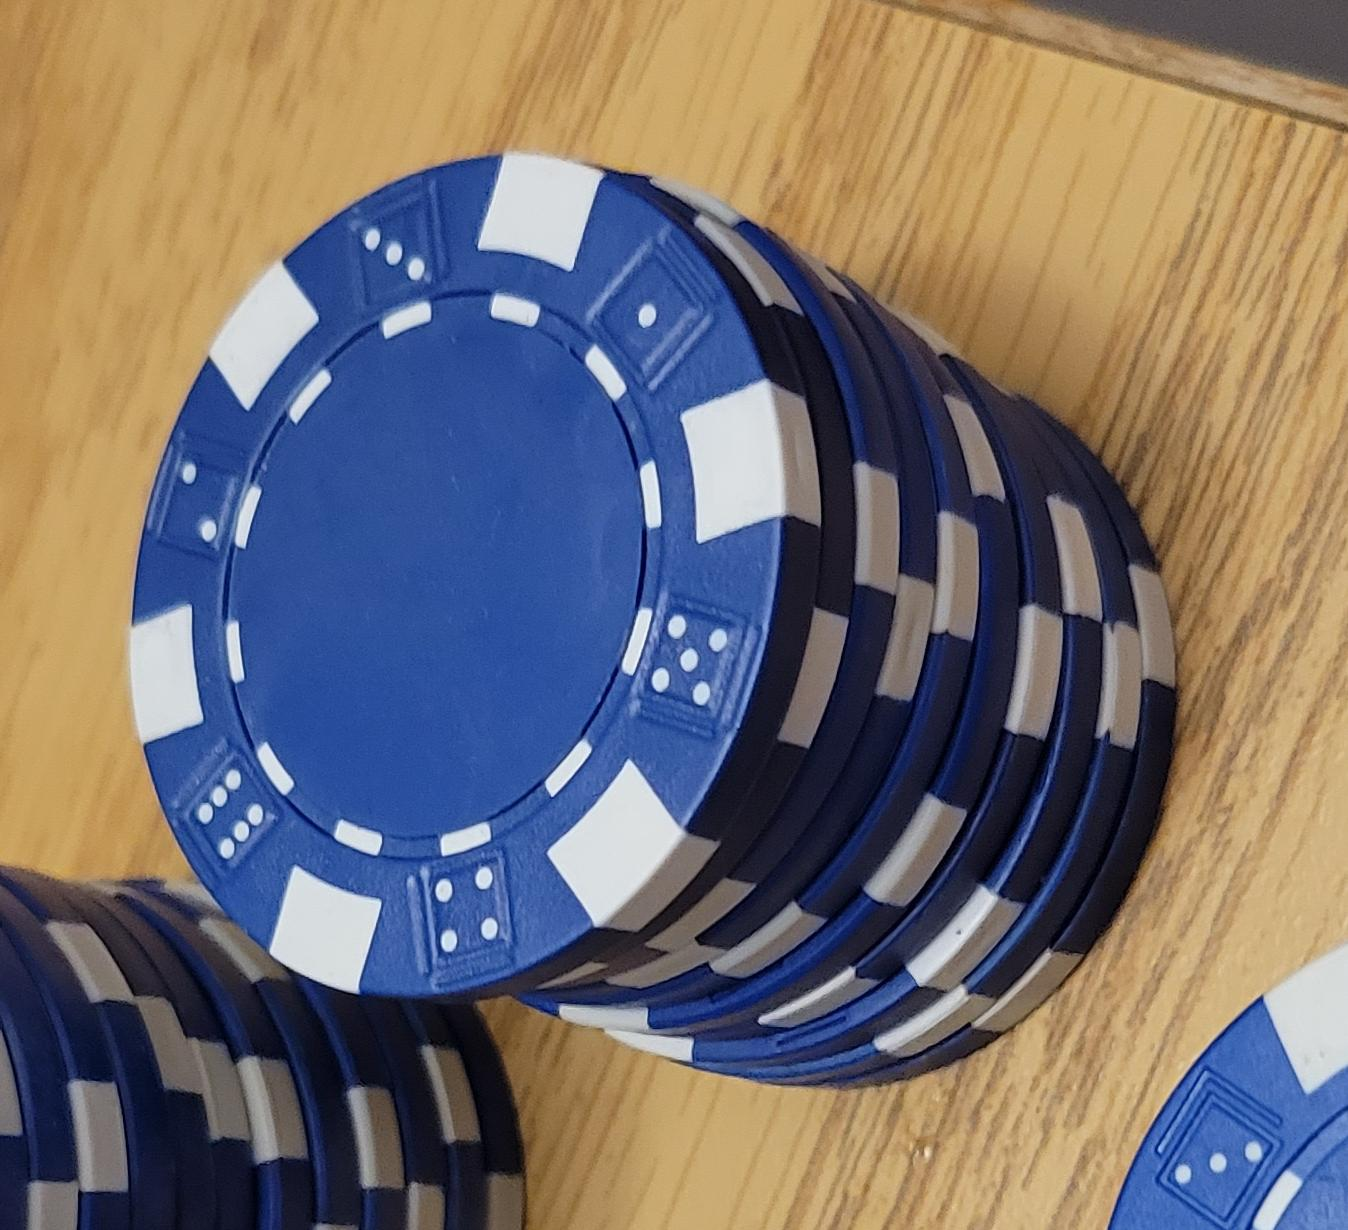Chip: (1, 104, 661, 1230)
